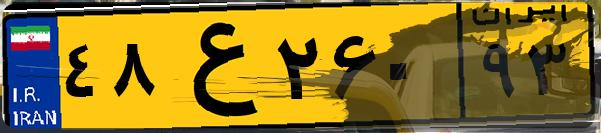0: (385, 28, 445, 110)
2: (270, 28, 330, 110)
3: (525, 38, 570, 115)
4: (57, 26, 110, 100)
6: (330, 28, 385, 110)
8: (110, 28, 158, 98)
9: (475, 38, 525, 113)
ع: (158, 12, 270, 120)
